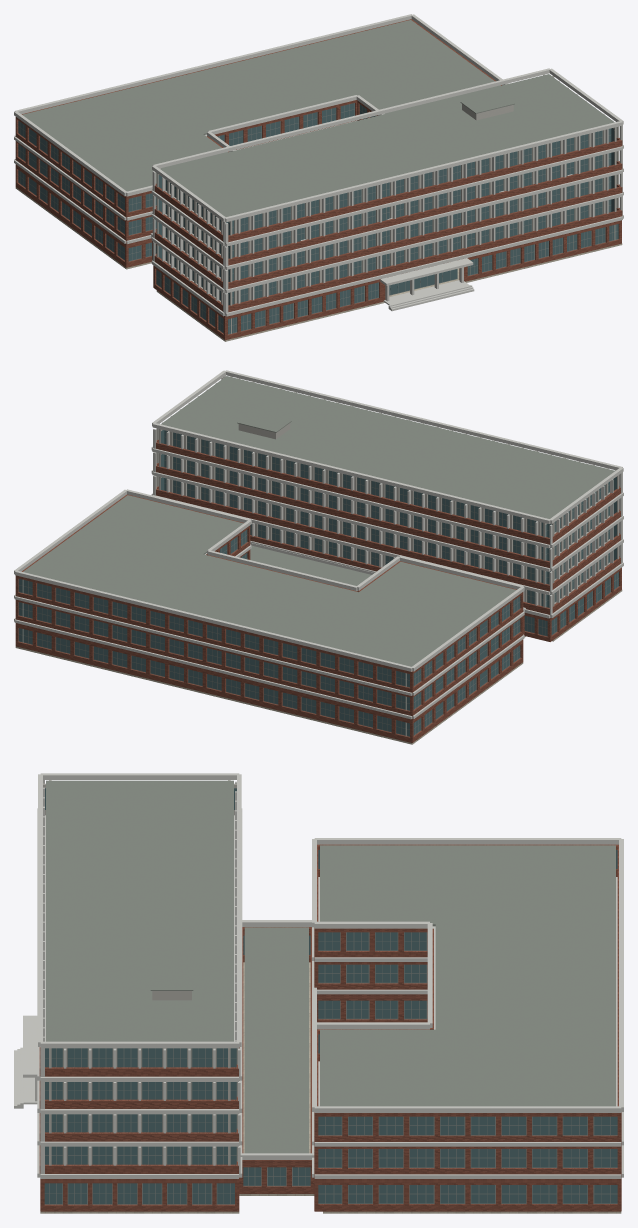
3 renders of one model, top to bottom at view 1: azimuth 30°, elevation 25°; view 2: azimuth 150°, elevation 25°; view 3: azimuth 270°, elevation 25°, orthographic. The views are drawn at different scales.
Visible parts, largest first — view 1: yulgok__roof, yulgok__white, yulgok__brick, yulgok__glass, yulgok__frame, yulgok__wall, yulgok__stone, yulgok__stair-main, yulgok__threshold-main; view 2: yulgok__roof, yulgok__brick, yulgok__white, yulgok__glass, yulgok__frame, yulgok__wall, yulgok__stone; view 3: yulgok__roof, yulgok__glass, yulgok__brick, yulgok__white, yulgok__frame, yulgok__stone, yulgok__wall.
Boxes of the visible parts, box(x1,y1,x2,y2) form: yulgok__roof: box(22, 20, 614, 216); yulgok__white: box(14, 14, 623, 316); yulgok__brick: box(15, 19, 622, 340); yulgok__glass: box(18, 103, 618, 333); yulgok__frame: box(18, 103, 618, 334); yulgok__wall: box(156, 74, 618, 305); yulgok__stone: box(15, 187, 622, 341); yulgok__stair-main: box(388, 285, 474, 311); yulgok__threshold-main: box(383, 280, 469, 304); yulgok__roof: box(23, 376, 615, 666); yulgok__brick: box(15, 439, 621, 742); yulgok__white: box(14, 370, 623, 719); yulgok__glass: box(18, 430, 618, 736); yulgok__frame: box(18, 429, 618, 736); yulgok__wall: box(156, 376, 618, 607); yulgok__stone: box(15, 590, 622, 744); yulgok__roof: box(46, 780, 615, 1153); yulgok__glass: box(44, 788, 617, 1203); yulgok__brick: box(39, 844, 621, 1211); yulgok__white: box(23, 773, 623, 1178); yulgok__frame: box(44, 932, 617, 1204); yulgok__stone: box(40, 962, 621, 1213); yulgok__wall: box(43, 780, 238, 1165).
Size of the model in its own units: 64.6 by 19.94 by 61.48.
Materials: 9 (5 with a texture image).
